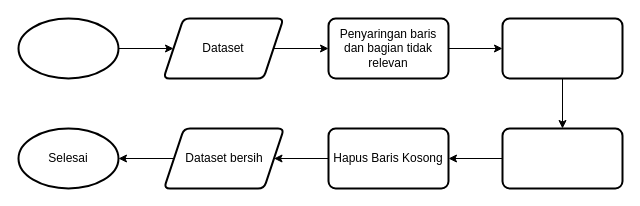
This 640x206 diagram has some shape labels left out. Each missing label, with the centre of its shape:
Mulai: the point at 68,48
Pembersihan Ringan dan Normalisasi Teks: the point at 562,48
Penghapusan karakter gibberish: the point at 562,158
